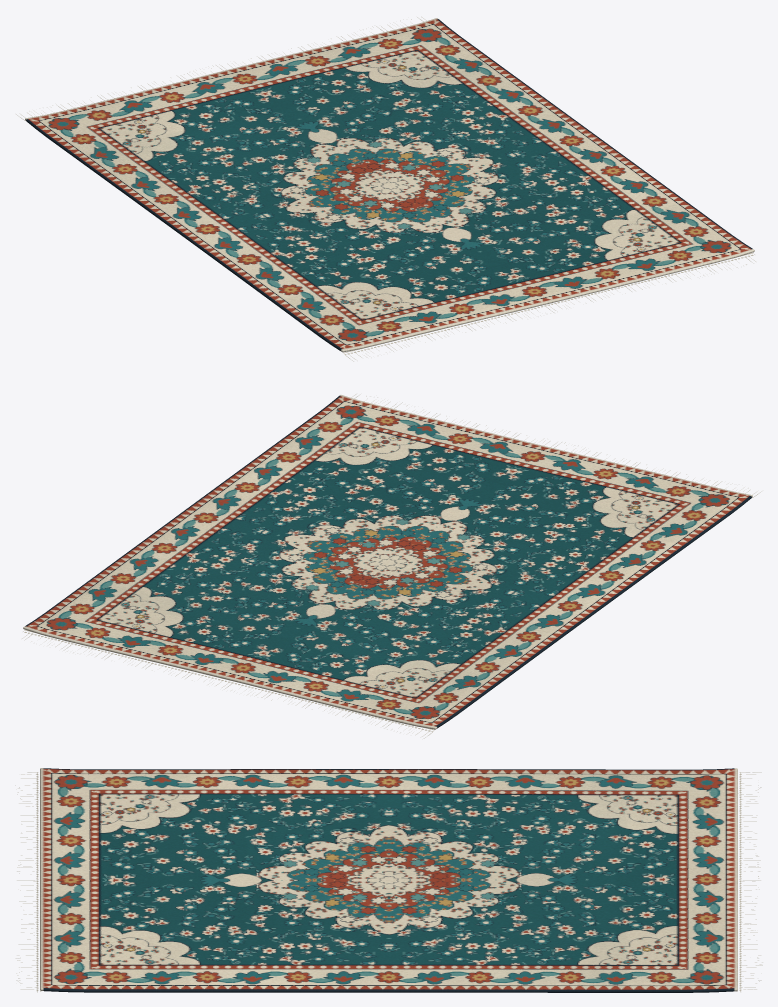
File: rug-vinton-teal.36268ecd.glb
3 views of the same model, one above another, from view 1: azimuth 30°, elevation 25°; view 2: azimuth 150°, elevation 25°; view 3: azimuth 270°, elevation 25° (orthographic). The views are drawn at different scales.
Visible parts, largest first — view 1: rug-vinton-teal, rug-vinton-teal-fringe; view 2: rug-vinton-teal, rug-vinton-teal-fringe; view 3: rug-vinton-teal, rug-vinton-teal-fringe.
Part boxes in pixels (x1=…): rug-vinton-teal: x1=25, y1=18, x2=754, y2=352; rug-vinton-teal-fringe: x1=16, y1=16, x2=755, y2=361; rug-vinton-teal: x1=23, y1=395, x2=752, y2=729; rug-vinton-teal-fringe: x1=22, y1=394, x2=761, y2=738; rug-vinton-teal: x1=40, y1=768, x2=737, y2=992; rug-vinton-teal-fringe: x1=15, y1=772, x2=762, y2=992.
Bounding box in the file's own units: 1.65 × 0.0167 × 2.36.
2 materials, 2 textured.
